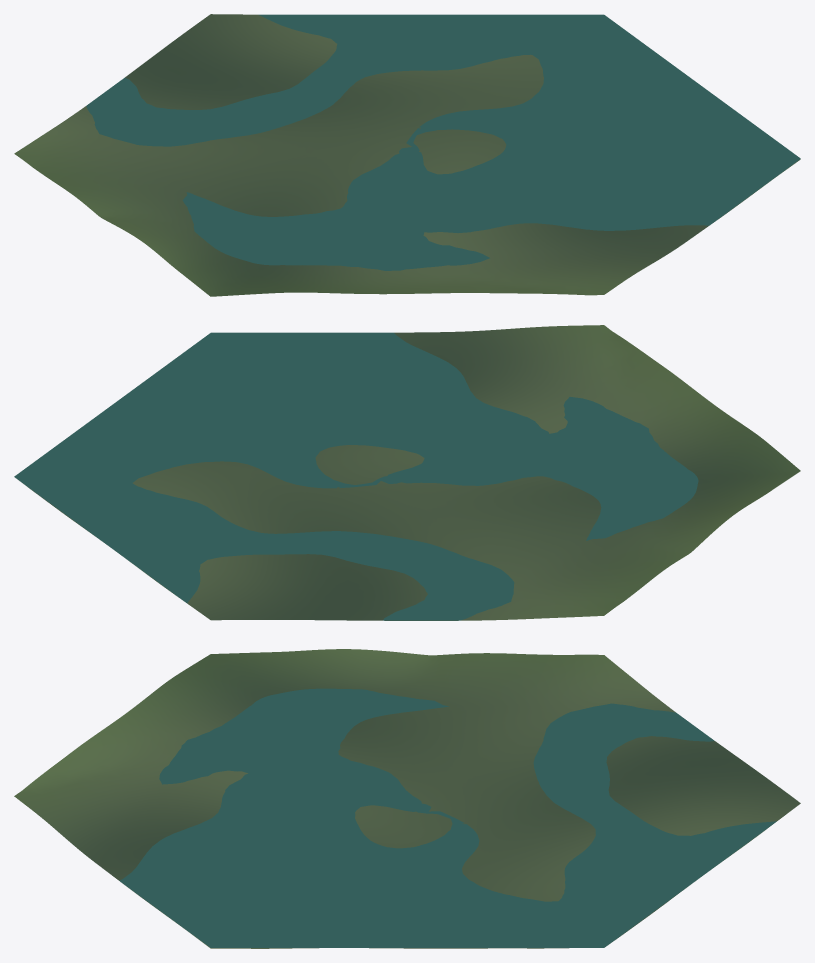
3 views of the same model, one above another, from view 1: azimuth 30°, elevation 25°; view 2: azimuth 150°, elevation 25°; view 3: azimuth 270°, elevation 25° (orthographic).
Visible parts, largest first — view 1: Lâmina estática PT_+2_12, PT_+2_12; view 2: Lâmina estática PT_+2_12, PT_+2_12; view 3: Lâmina estática PT_+2_12, PT_+2_12.
Boxes of the visible parts, x1,y1,x2,y2 form: Lâmina estática PT_+2_12: [86, 14, 800, 270]; PT_+2_12: [14, 14, 800, 296]; Lâmina estática PT_+2_12: [14, 332, 698, 620]; PT_+2_12: [24, 325, 800, 620]; Lâmina estática PT_+2_12: [119, 688, 776, 947]; PT_+2_12: [14, 649, 800, 948].
Size of the model in its own units: 4330 by 84.35 by 5000.
